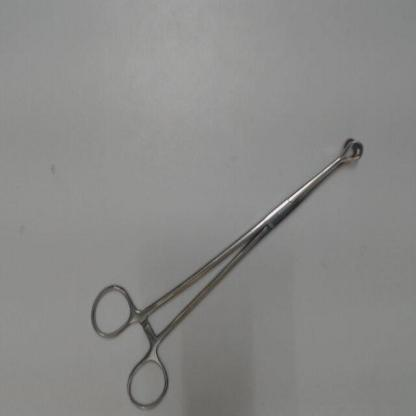8 Babcock Tissue Forceps: (85, 128, 368, 412)
